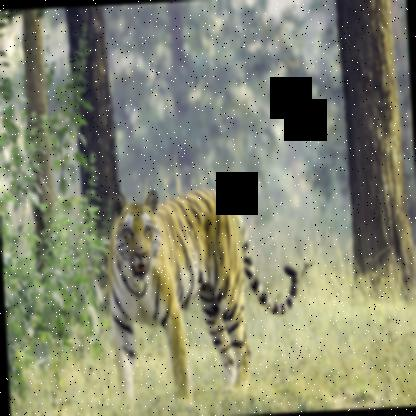Panthera tigris: (102, 181, 304, 410)
